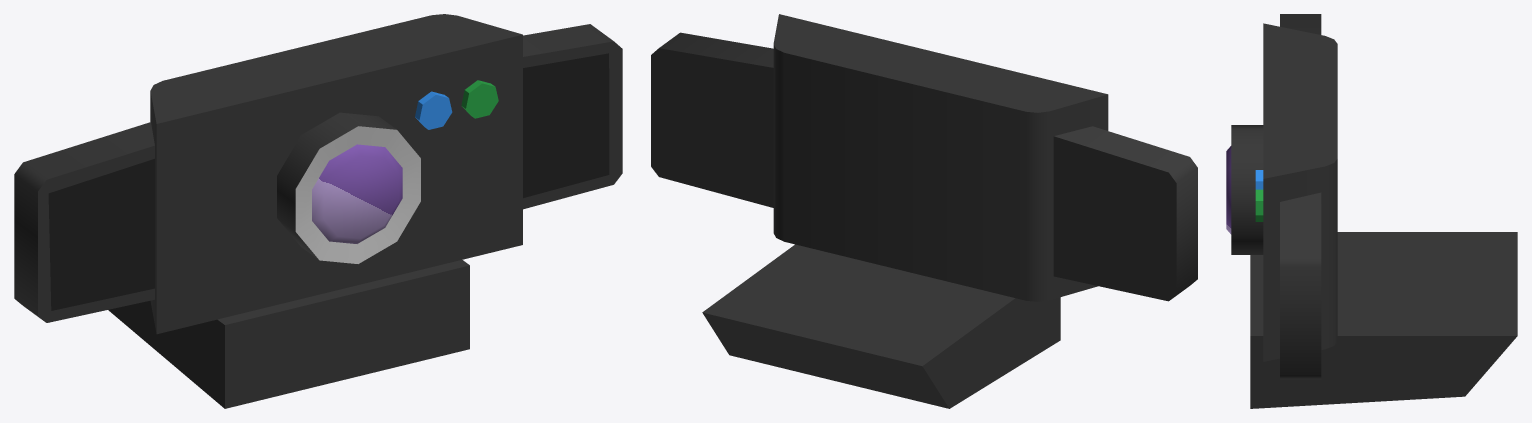
File: Web_Cam_1.obj
The picture shows the model from 3 angles, left to right: view 1: azimuth 30°, elevation 25°; view 2: azimuth 150°, elevation 25°; view 3: azimuth 270°, elevation 25°; orthographic projection. The views are drawn at different scales.
Visible parts, largest first — view 1: Web_Cam_1; view 2: Web_Cam_1; view 3: Web_Cam_1.
Part boxes in pixels (box(x1,y1,x2,y2)): Web_Cam_1: box(14, 14, 622, 408); Web_Cam_1: box(651, 14, 1197, 408); Web_Cam_1: box(1226, 14, 1517, 408).
Size of the model in its own units: 0.1024 by 0.0492 by 0.0508.
